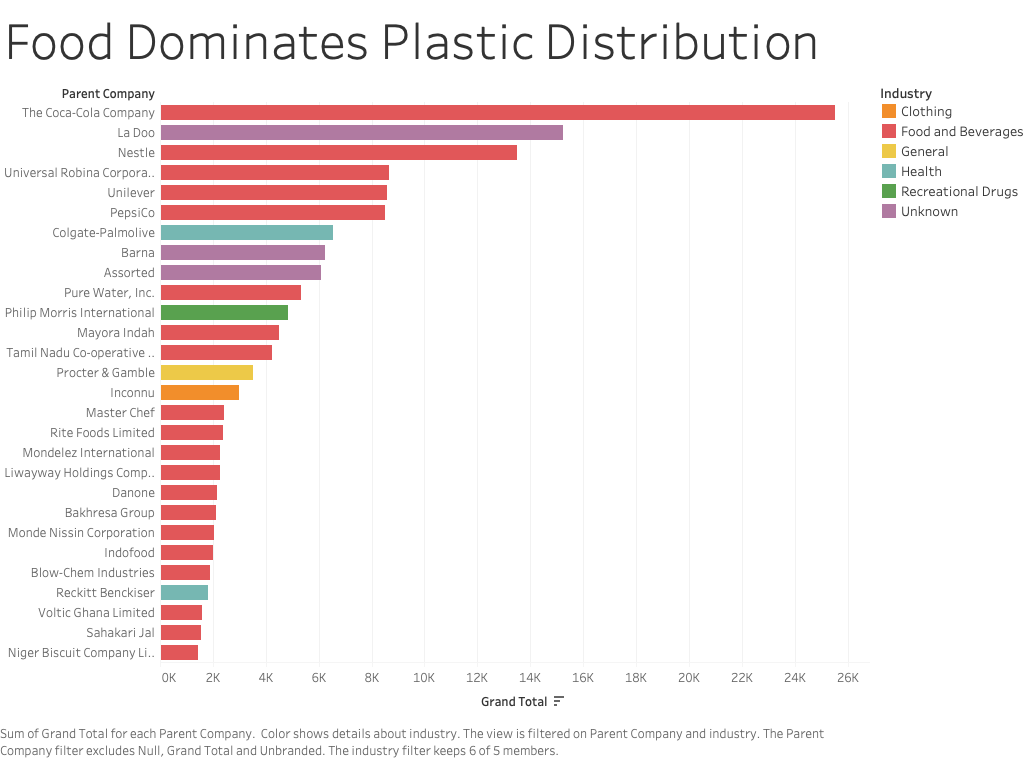

The page's visual inventory and layout, read from the dashboard file:
{"tool":"tableau","page":{"name":"Dashboard 2","canvas":[1000,800],"ordinal":1},"visuals":[{"type":"worksheet","title":"SideBar","mark":"Automatic","rows":["parent_company"],"cols":["grand_total"],"box":[8,8,824,784]},{"type":"legend","title":"SideBar","param":"[federated.0bekhf81d466km1bd868x01l75tm].[none:industry:nk]","box":[832,8,160,146]}]}

Visuals, with their boxes on the page's 1000x800 design canvas (x1, y1, x2, y2). These are canvas units, not pixel positions in the 1028x759 screenshot, which may show the page scaled, cropped or inside an application window:
"SideBar" worksheet: 8 8 832 792
"SideBar" legend: 832 8 992 154
